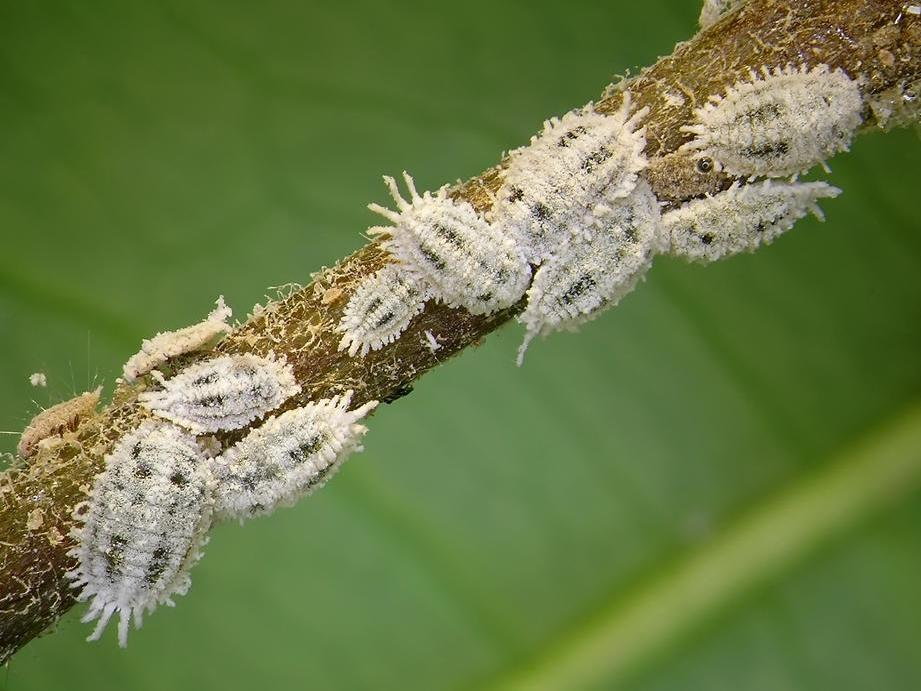pseudococcidae: (8, 23, 909, 653)
